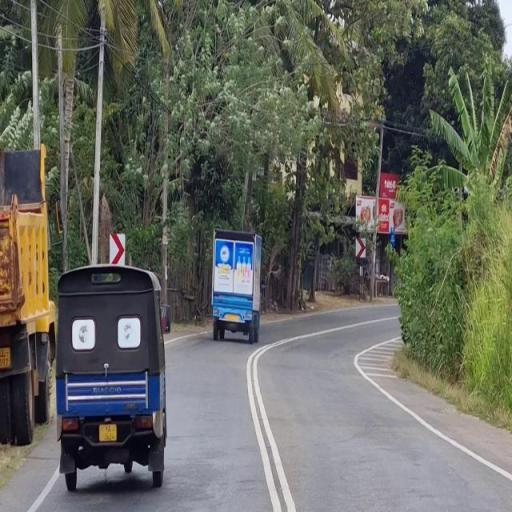double_white_line: (245, 341, 293, 511), (26, 467, 58, 512)
